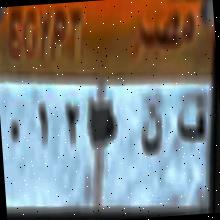0: (7, 112, 24, 152)
1: (34, 100, 56, 154)
2: (64, 96, 85, 152)
faa: (173, 88, 210, 154)
noon: (138, 104, 166, 161)
